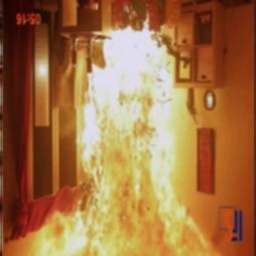fire: (50, 33, 216, 256)
